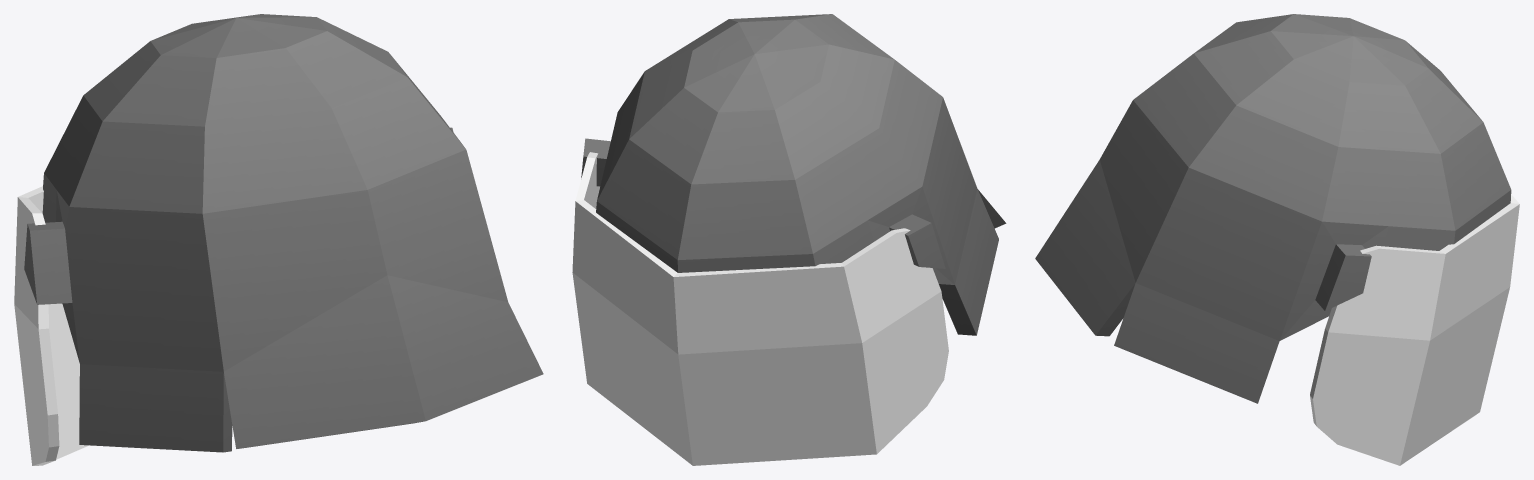
File: CRS.fbx
3 renders of one model, left to right at view 1: azimuth 30°, elevation 25°; view 2: azimuth 150°, elevation 25°; view 3: azimuth 270°, elevation 25°, orthographic. The views are drawn at different scales.
Parts seen in each view (by area): view 1: CRS; view 2: CRS; view 3: CRS.
Part boxes in pixels (x1=…): CRS: x1=14, y1=14, x2=543, y2=465; CRS: x1=572, y1=14, x2=1006, y2=465; CRS: x1=1035, y1=14, x2=1519, y2=465.
Bounding box in the file's own units: 203 × 204 × 235.
